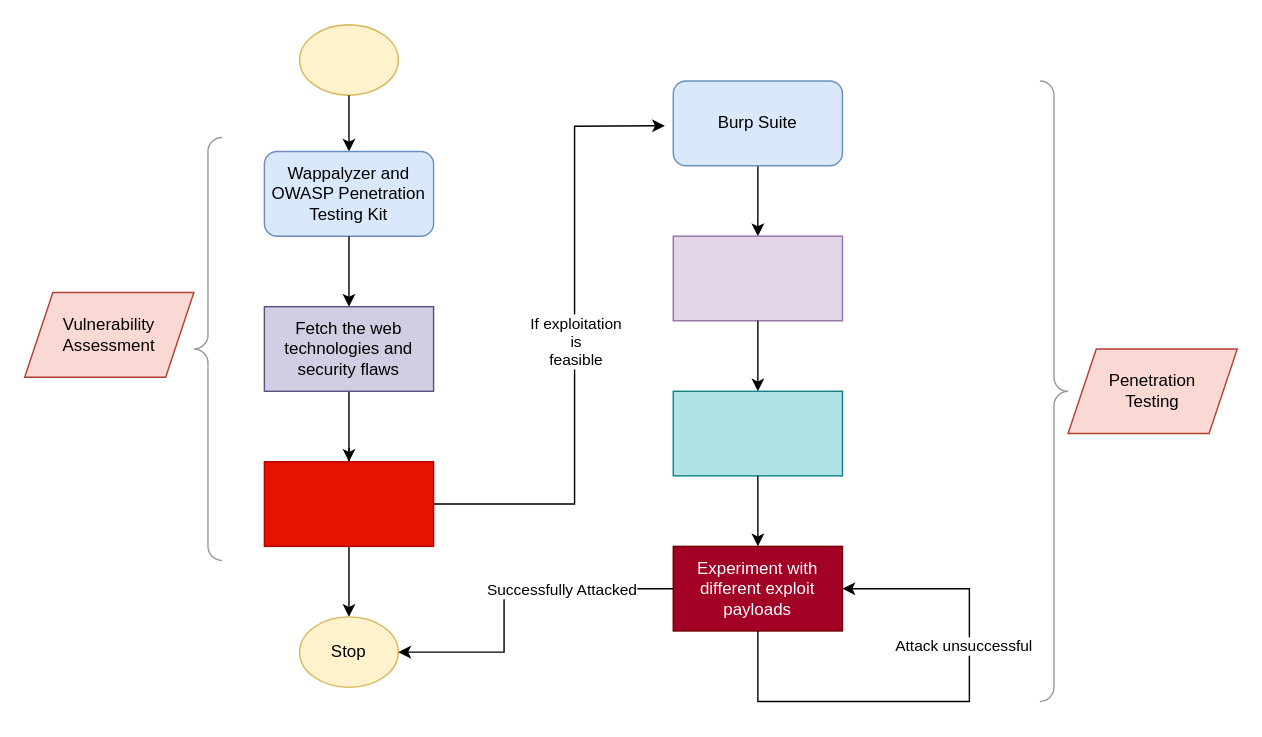
Some shapes in this 1262 by 737 pixel diagram are drawn without their labels. Here are the shapes that lost their labels. From the top down, the centre of each, then its label:
At (348,59): "Start".
At (757,278): "Intercept websites' requests".
At (757,433): "Send to Repeater".
At (348,503): "List of vulnerabilities".
